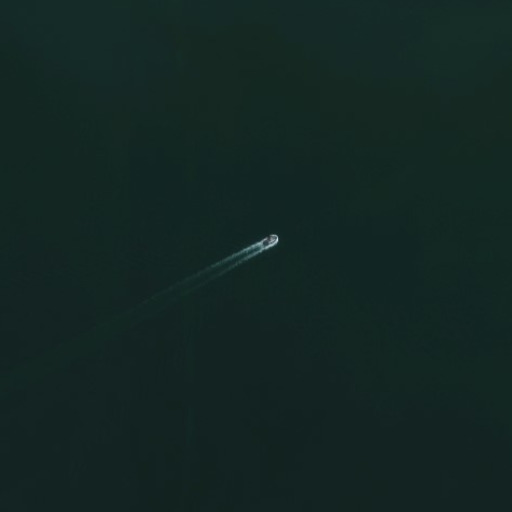ship: (255, 231, 281, 252)
